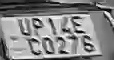0: (42, 36, 55, 57)
1: (47, 17, 57, 34)
2: (55, 36, 68, 55)
4: (60, 17, 70, 35)
6: (79, 35, 97, 53)
7: (67, 35, 79, 55)
C: (28, 37, 44, 57)
E: (70, 15, 86, 34)
P: (33, 17, 44, 36)
U: (15, 18, 33, 37)
